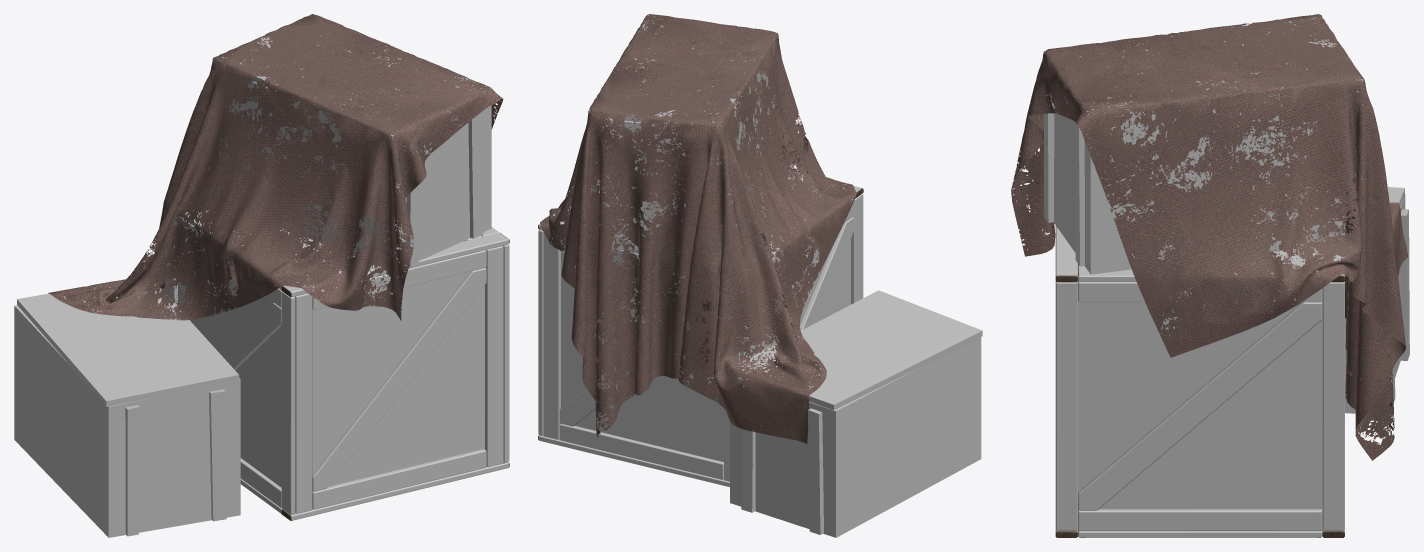
Rendered from SM_Box_fabric_2_01.fbx.
3 renders of one model, left to right at view 1: azimuth 30°, elevation 25°; view 2: azimuth 150°, elevation 25°; view 3: azimuth 270°, elevation 25°, orthographic. The views are drawn at different scales.
Parts seen in each view (by area): view 1: SM_Box_fabric_2_01_LOD0; view 2: SM_Box_fabric_2_01_LOD0; view 3: SM_Box_fabric_2_01_LOD0.
Boxes of the visible parts, x1,y1,x2,y2 form: SM_Box_fabric_2_01_LOD0: (14, 14, 509, 537); SM_Box_fabric_2_01_LOD0: (538, 14, 982, 537); SM_Box_fabric_2_01_LOD0: (1011, 14, 1409, 537).
Size of the model in its own units: 139 by 110 by 130.
